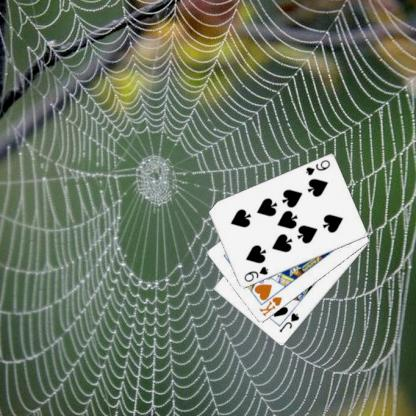9S: (241, 264, 270, 284), (303, 157, 331, 177)
JS: (276, 310, 301, 334)
KH: (257, 294, 283, 318)
